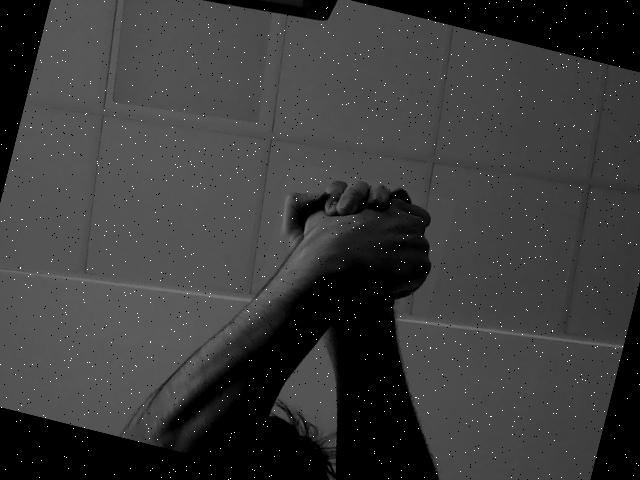friend: (260, 160, 455, 324)
